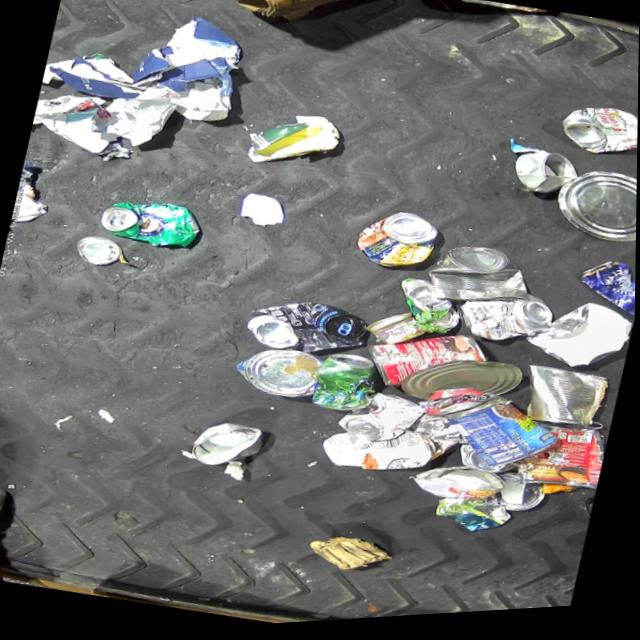can: (436, 386, 569, 485), (363, 320, 494, 412), (243, 290, 371, 371), (423, 240, 541, 324), (400, 348, 526, 424), (549, 165, 638, 259), (517, 421, 611, 505), (516, 364, 612, 442), (95, 189, 205, 257), (455, 286, 557, 359), (353, 206, 443, 281), (336, 385, 429, 455), (231, 340, 323, 409), (556, 102, 638, 173), (411, 458, 510, 515), (310, 348, 383, 420), (184, 415, 265, 478), (392, 277, 468, 344), (572, 260, 637, 327), (512, 150, 584, 208), (365, 307, 430, 356), (492, 473, 551, 524), (454, 0, 551, 27), (456, 446, 521, 484), (73, 232, 125, 271)
